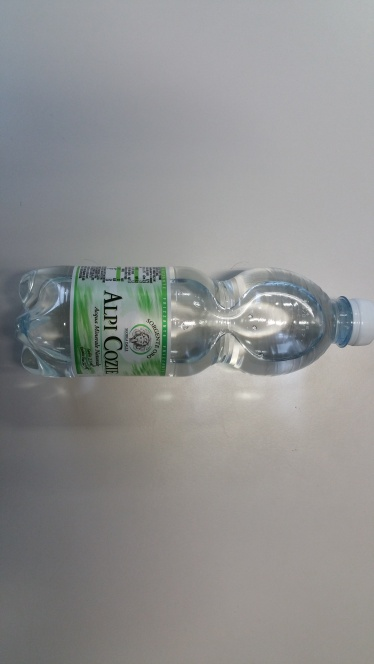bottle: (12, 260, 372, 390)
